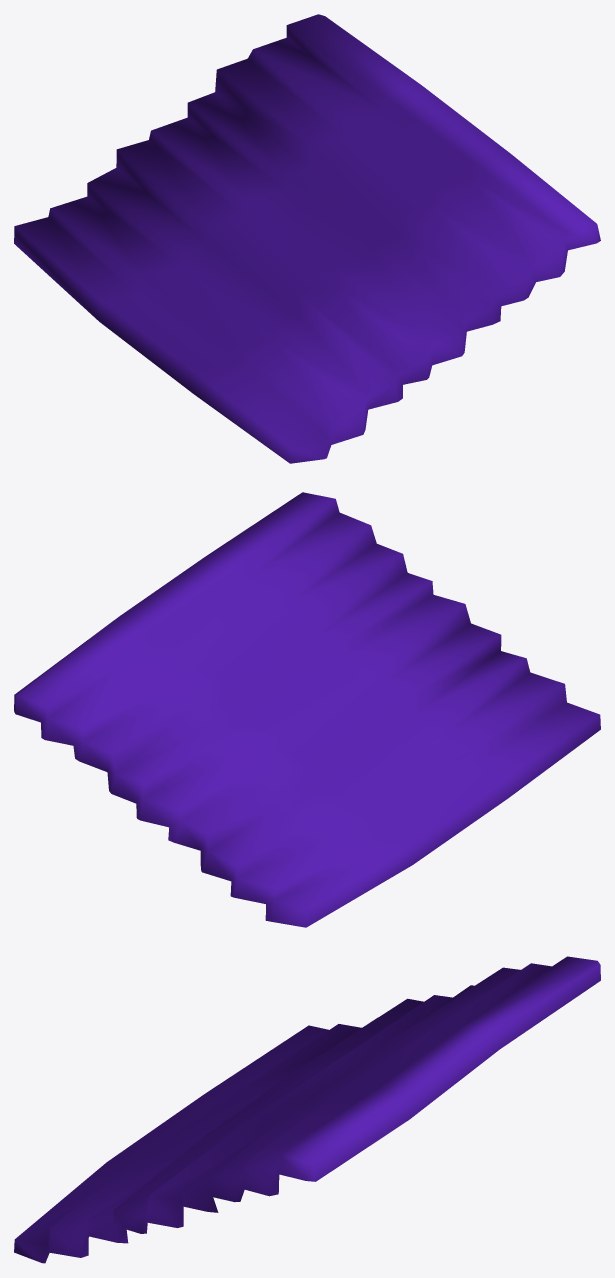
The model's file is stairs_01.FBX.
3 views of the same model, one above another, from view 1: azimuth 30°, elevation 25°; view 2: azimuth 150°, elevation 25°; view 3: azimuth 330°, elevation 25° (orthographic).
Parts seen in each view (by area): view 1: stairs_01; view 2: stairs_01; view 3: stairs_01.
Boxes of the visible parts, <box> form: stairs_01: <box>14,14,600,463</box>; stairs_01: <box>14,492,600,927</box>; stairs_01: <box>14,956,600,1263</box>.
Size of the model in its own units: 35.15 by 18.19 by 56.77.
